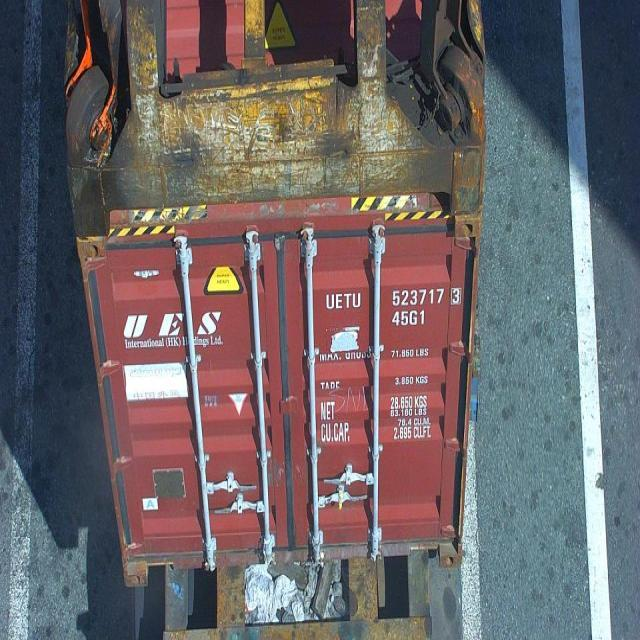ISO: (389, 310, 428, 327)
container_number: (330, 287, 460, 308)
